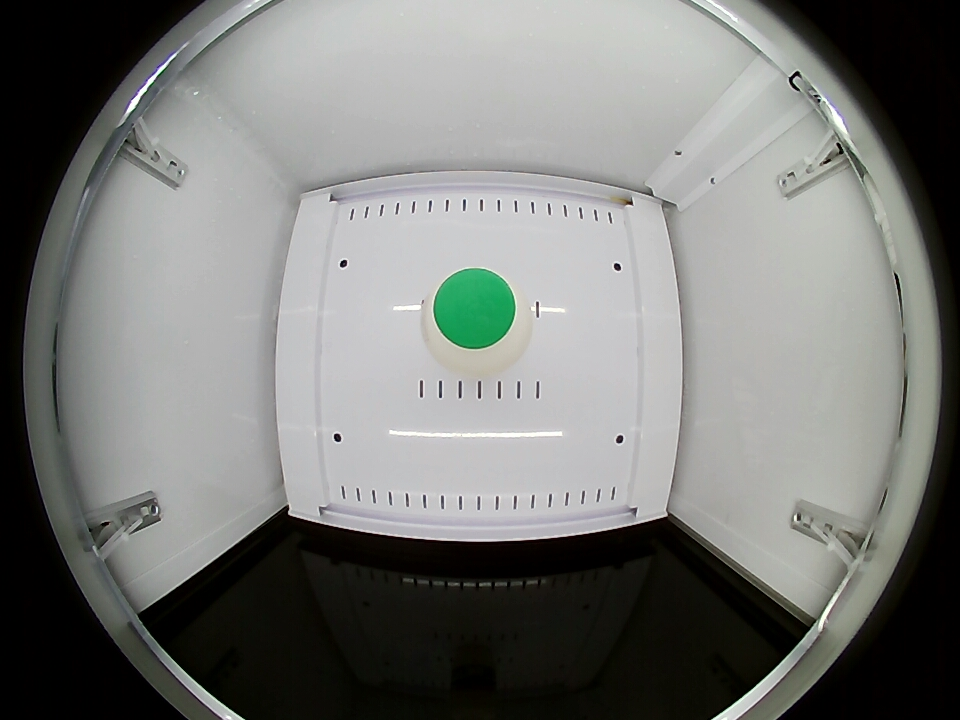liziyuan: (421, 267, 531, 377)
